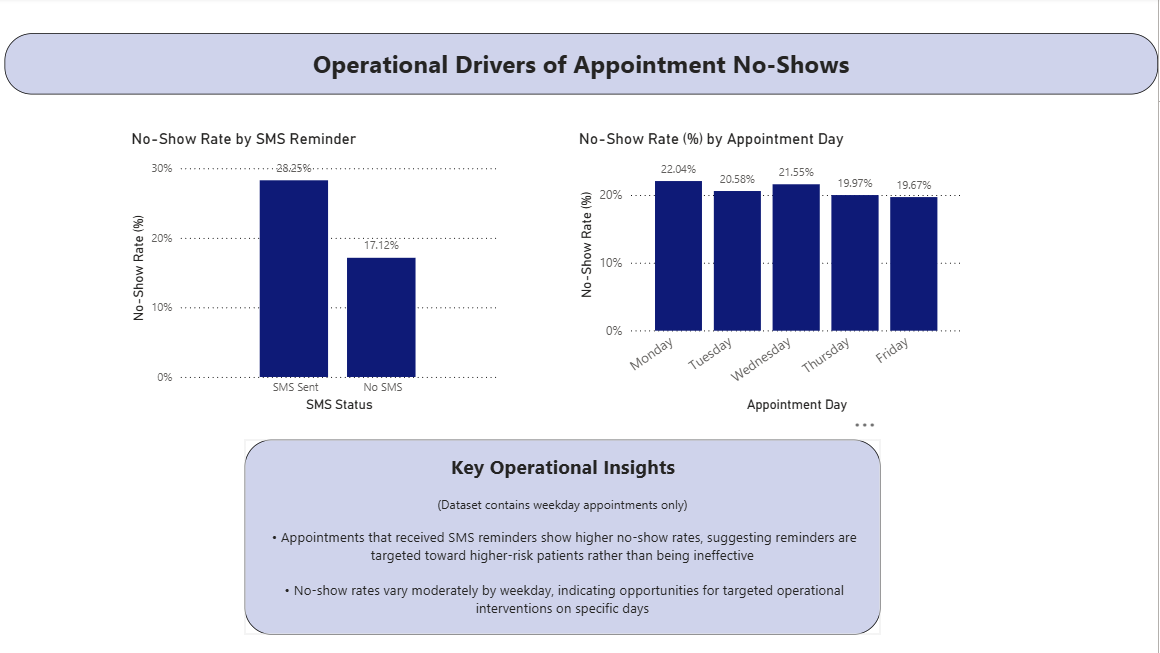

The dashboard page shown, as its layout file describes it:
{"tool":"powerbi","page":{"name":"Operational Drivers","canvas":[1280,720],"ordinal":1},"visuals":[{"type":"clusteredColumnChart","title":"No-Show Rate by SMS Reminder","fields":{"Y":["Healthcare.No-Show Rate (%)"],"Category":["Healthcare.SMS Status"]},"box":[148.2,145.5,411.7,315.6],"z":0},{"type":"clusteredColumnChart","fields":{"Category":["Healthcare.Appointment Day"],"Y":["Healthcare.No-Show Rate (%)"]},"box":[639.5,145.5,430.9,315.6],"z":1000},{"type":"textbox","box":[13.7,39.8,1266.6,67.2],"z":2000},{"type":"textbox","box":[277.2,485.8,698.5,214.1],"z":3000}]}

Visuals, with their boxes in screenshot pixels (x1, y1, x2, y2), scaled from the page's 1280x720 canvas onto the 1160x653 screenshot:
"No-Show Rate by SMS Reminder" clusteredColumnChart: [134, 132, 507, 418]
clusteredColumnChart - Healthcare.Appointment Day x Healthcare.No-Show Rate (%): [580, 132, 970, 418]
textbox: [12, 36, 1159, 97]
textbox: [251, 441, 884, 635]
